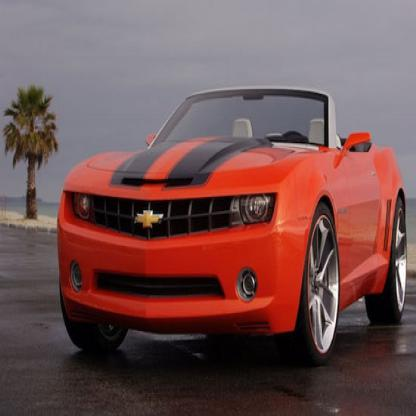Vehicle: (55, 78, 409, 374)
